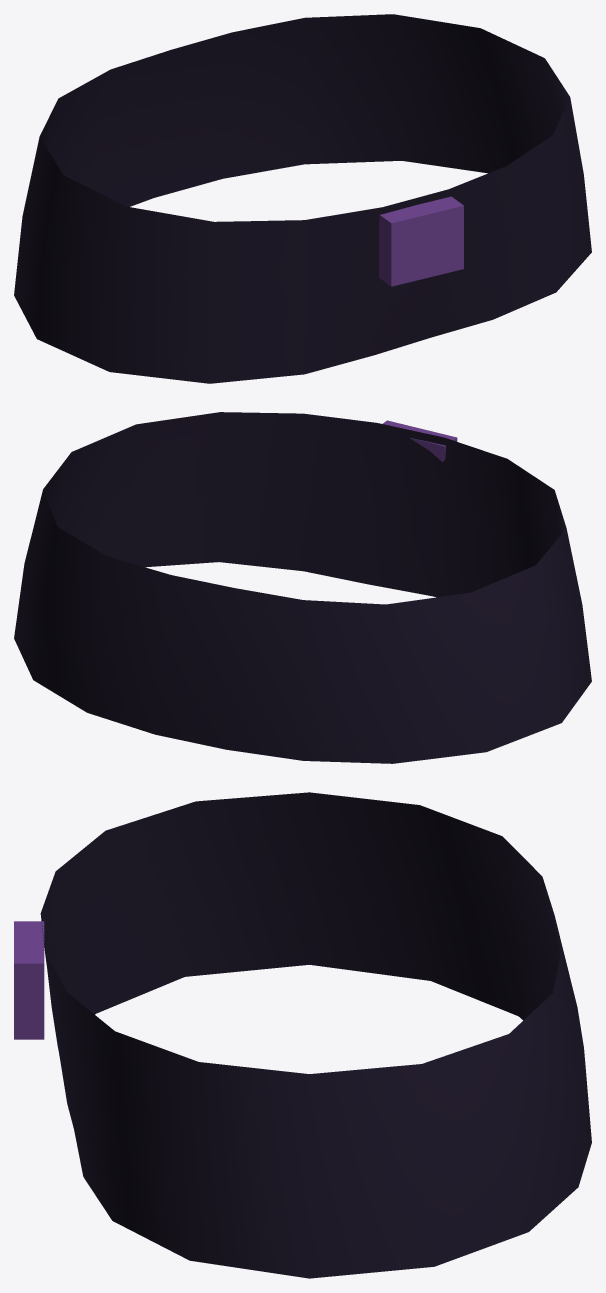
File: witch_costume_belt.glb
3 views of the same model, one above another, from view 1: azimuth 30°, elevation 25°; view 2: azimuth 150°, elevation 25°; view 3: azimuth 270°, elevation 25° (orthographic). The views are drawn at different scales.
Visible parts, largest first — view 1: witch_costume_belt; view 2: witch_costume_belt; view 3: witch_costume_belt.
Part boxes in pixels (x1,y1,x2,y2): witch_costume_belt: (14,14,591,383); witch_costume_belt: (14,412,591,763); witch_costume_belt: (14,792,591,1278).
Bounding box in the file's own units: 0.4427 × 0.1238 × 0.3446.
